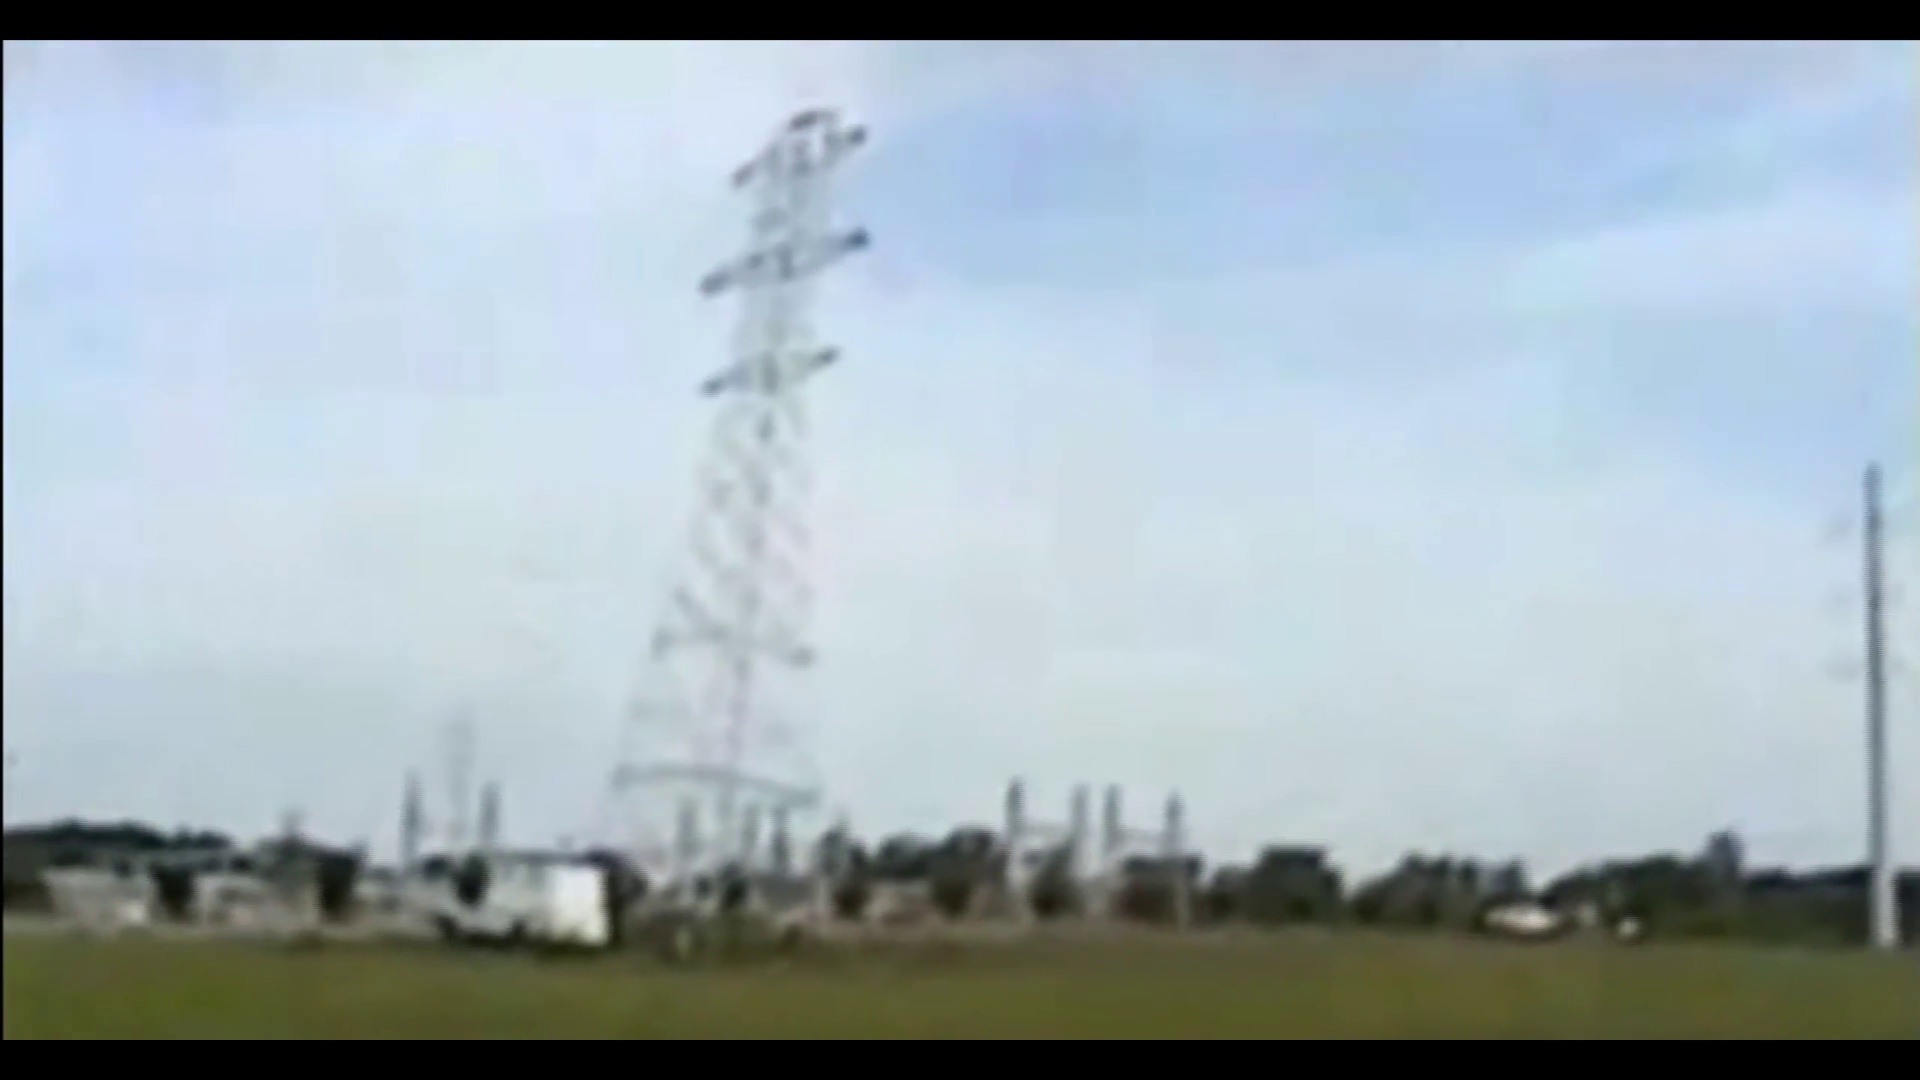tower_up: (611, 78, 911, 853)
